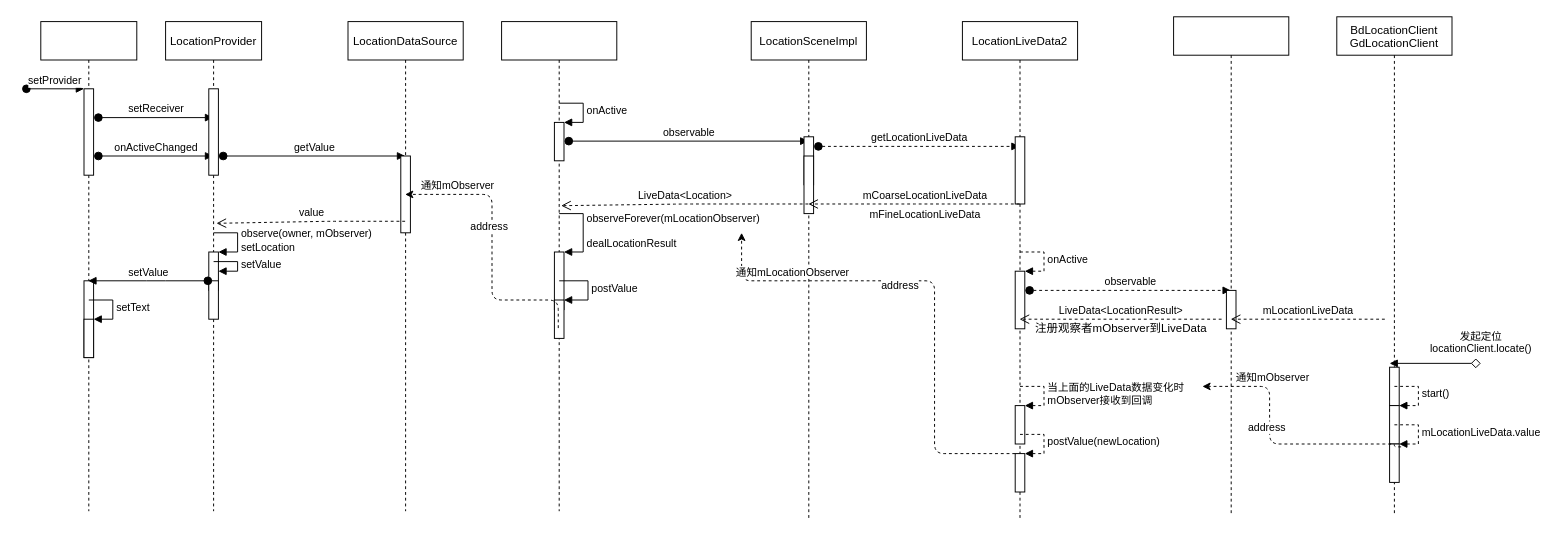
Image size: 1558x538. Some labels were removed from this diagram. Each missing label, with the centre of its shape:
"LocationClient" belongs at [1231,266].
"LocationLiveData1" belongs at [559,266].
"WmTextView" belongs at [88,266].
